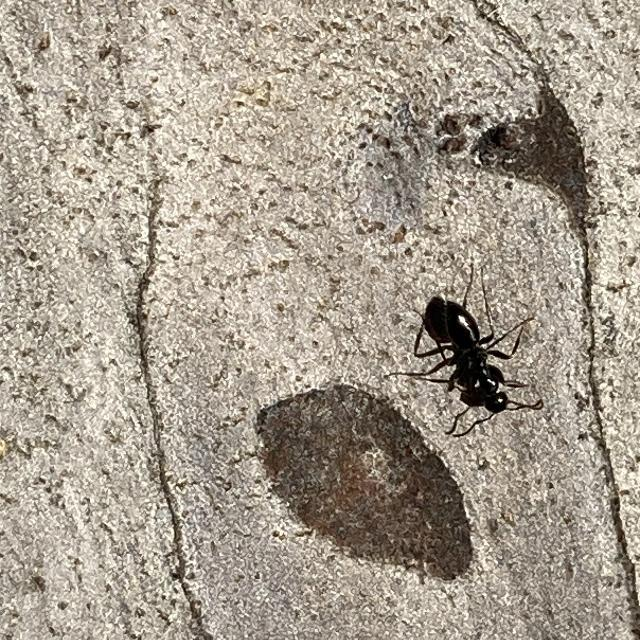Colobopsis: (399, 280, 538, 442)
